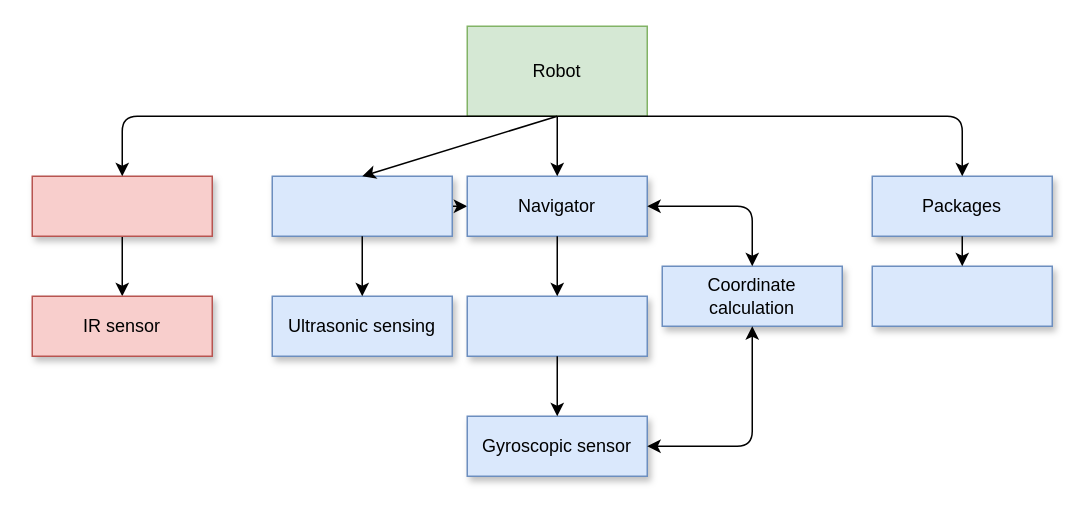
Image size: 1088x513. Some labels were removed from this diagram. The centre of each missing label's shape, as x and y in pixels:
"Beacon detection" belongs at [123,208].
"Color sensor" belongs at [963,298].
"Correction pilot" belongs at [558,328].
"Object detection" belongs at [363,208].
